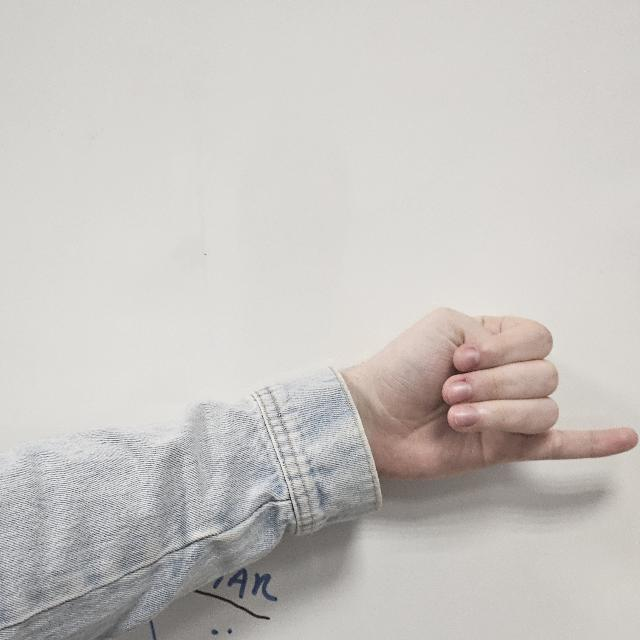Esquerda: (356, 278, 636, 488)
